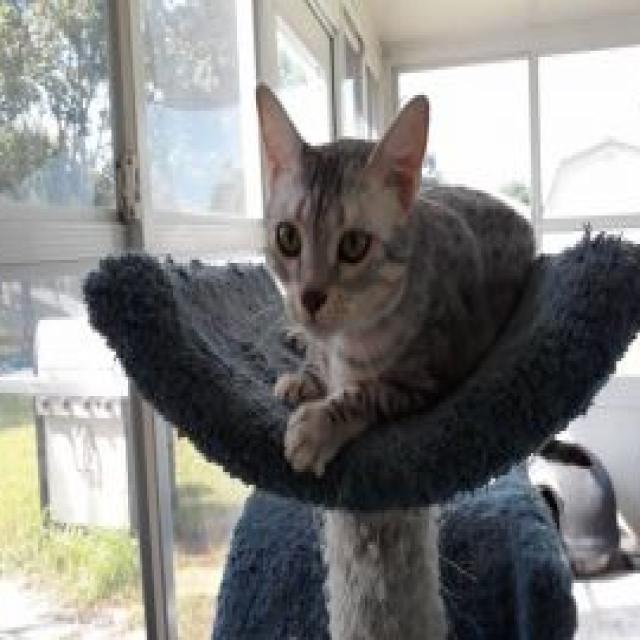Egyptian Mau: (248, 74, 542, 486)
